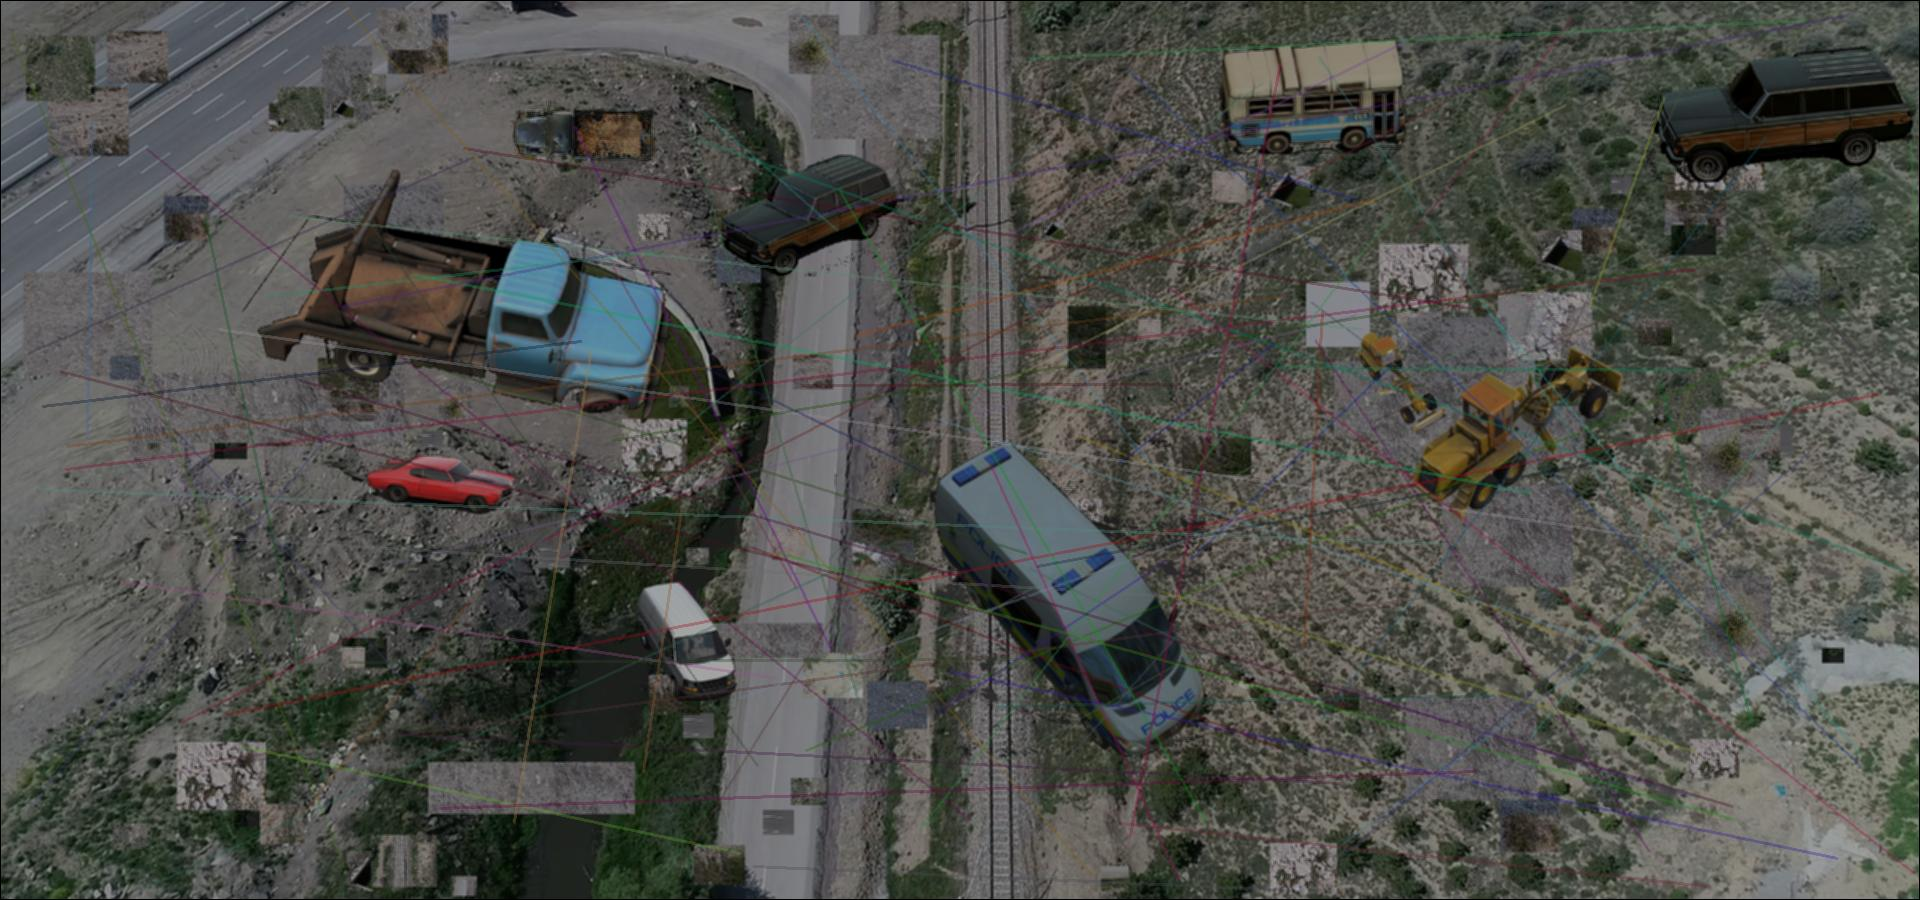arac: (242, 160, 671, 430), (931, 440, 1205, 757), (1409, 340, 1627, 525), (1640, 40, 1913, 182), (1213, 36, 1406, 154), (722, 156, 898, 276), (629, 580, 741, 700), (511, 98, 658, 170), (1354, 331, 1451, 437), (362, 452, 518, 516)
